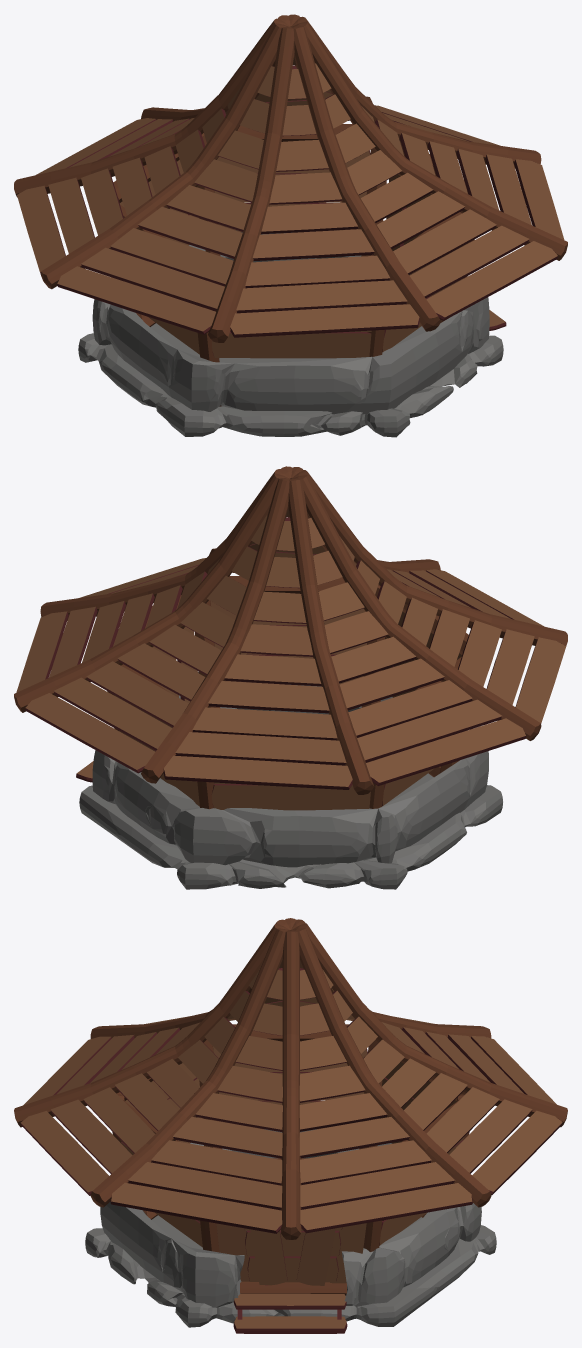
The model's file is house.fbx.
3 renders of one model, top to bottom at view 1: azimuth 30°, elevation 25°; view 2: azimuth 150°, elevation 25°; view 3: azimuth 270°, elevation 25°, orthographic. The views are drawn at different scales.
Visible parts, largest first — view 1: Cylinder.097, Cylinder.096, Cylinder.018, Cylinder.013, Cylinder.014, Cylinder.017, Cylinder.048, Cylinder.057, Cylinder.049, Cylinder.019, Cylinder.118, Cylinder.058 (+36 smaller); view 2: Cylinder.097, Cylinder.096, Cylinder.015, Cylinder.019, Cylinder.014, Cylinder.020, Cylinder.075, Cylinder.066, Cylinder.076, Cylinder.018, Cylinder.067, Cylinder.084 (+36 smaller); view 3: Cylinder.097, Cylinder.096, Cylinder.016, Cylinder.017, Cylinder.020, Cylinder.013, Cylinder.015, Cylinder.021, Cylinder.030, Cylinder.022, Cylinder.031, Cylinder.023 (+46 smaller).
Part boxes in pixels (x1,y1,x2,y2): Cylinder.097: (92, 230, 489, 414); Cylinder.096: (78, 323, 503, 437); Cylinder.018: (208, 26, 294, 342); Cylinder.013: (291, 26, 440, 331); Cylinder.014: (40, 23, 289, 289); Cylinder.017: (292, 21, 567, 260); Cylinder.048: (230, 304, 419, 337); Cylinder.057: (57, 266, 215, 334); Cylinder.049: (236, 280, 407, 313); Cylinder.019: (14, 18, 289, 197); Cylinder.118: (211, 332, 371, 358); Cylinder.058: (81, 247, 224, 311); Cylinder.097: (92, 672, 488, 867); Cylinder.096: (79, 773, 502, 889); Cylinder.015: (141, 478, 290, 783); Cylinder.019: (288, 478, 374, 794); Cylinder.014: (292, 475, 541, 740); Cylinder.020: (14, 473, 289, 712); Cylinder.075: (163, 755, 352, 789); Cylinder.066: (366, 718, 526, 785); Cylinder.076: (175, 732, 346, 765); Cylinder.018: (291, 470, 567, 645); Cylinder.067: (357, 699, 502, 762); Cylinder.084: (25, 693, 154, 773); Cylinder.097: (100, 1129, 481, 1307); Cylinder.096: (85, 1215, 496, 1327); Cylinder.016: (280, 930, 301, 1239); Cylinder.017: (90, 928, 289, 1207); Cylinder.020: (292, 928, 491, 1207); Cylinder.013: (14, 923, 289, 1127); Cylinder.015: (292, 923, 567, 1127); Cylinder.021: (300, 1183, 472, 1233); Cylinder.030: (110, 1182, 282, 1233); Cylinder.022: (300, 1162, 455, 1209); Cylinder.031: (127, 1162, 282, 1210); Cylinder.023: (300, 1140, 431, 1184).
Bounding box in the file's own units: 1863 × 1221 × 1863.
